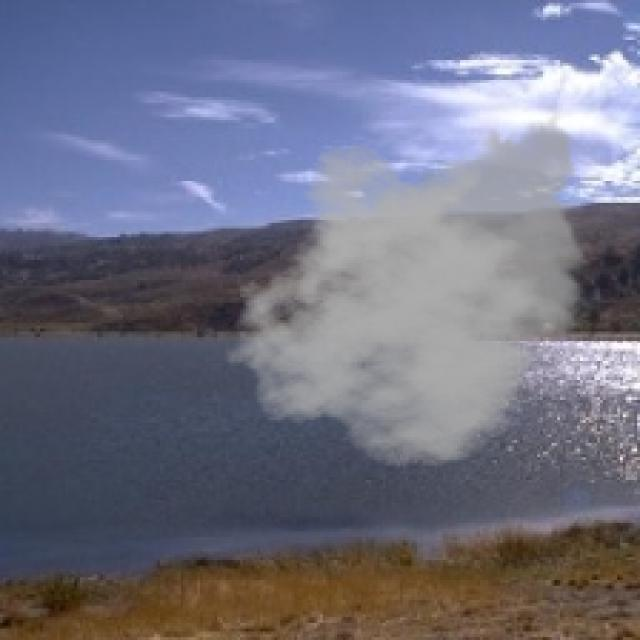Smoke: (222, 106, 598, 468)
